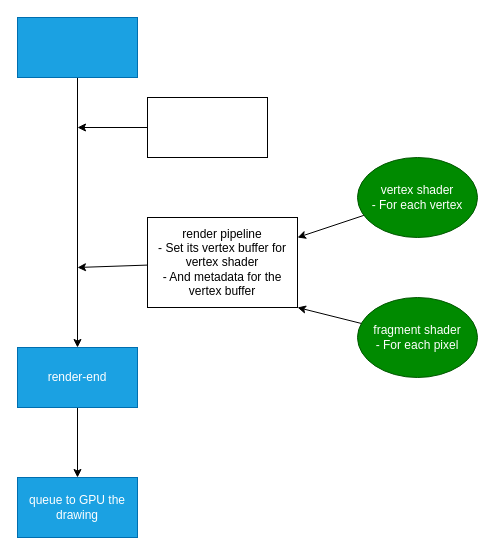
The diagram is 495 pixels wide and 555 high, and some of its shapes have lost their labels. Each missing label, with the centre of its shape:
clear cell: (207,127)
render-pass: (77,47)
